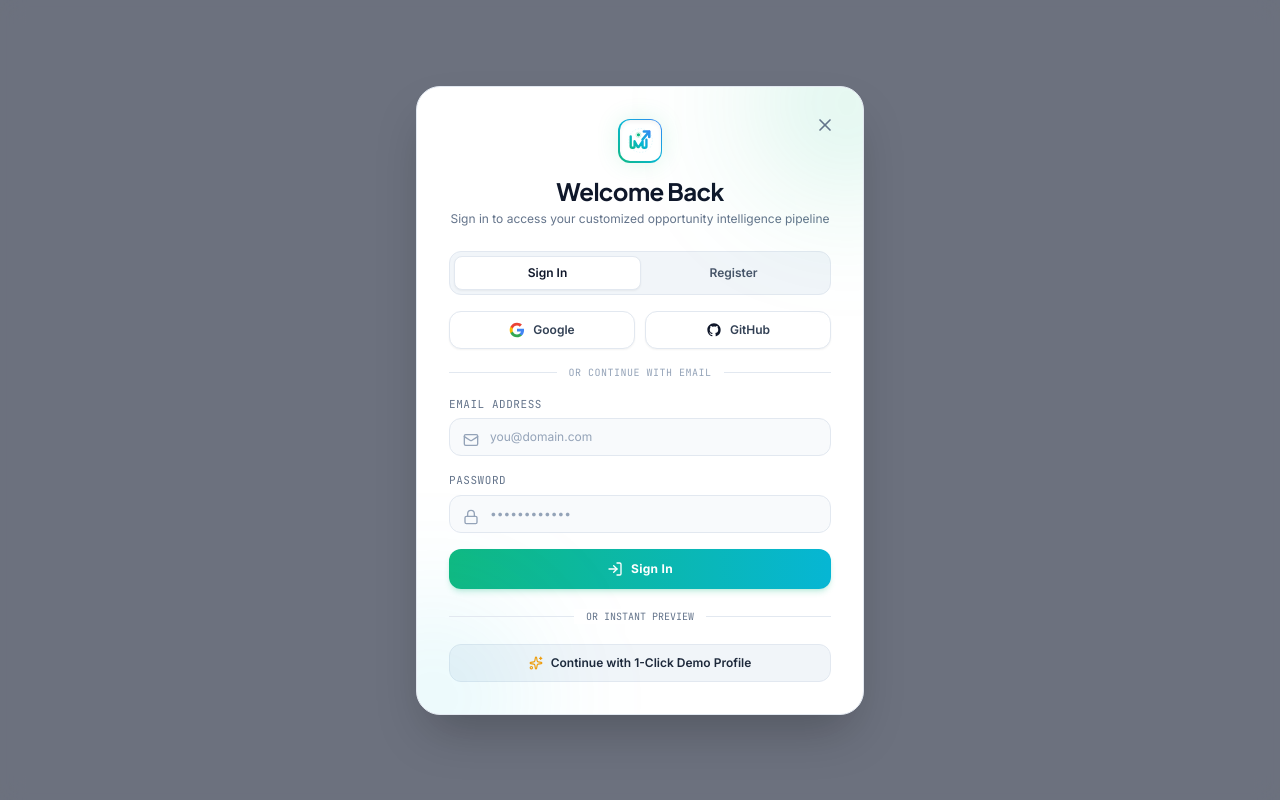
Test: AuthModal Component & Authentication Flows › handles switching between login and registration mode
Expected: the field with placeholder "e.g. Alex Mercer" is not shown
Note: Switch to Register
Click the button "Register": (734, 272) 641,256 -> 826,290
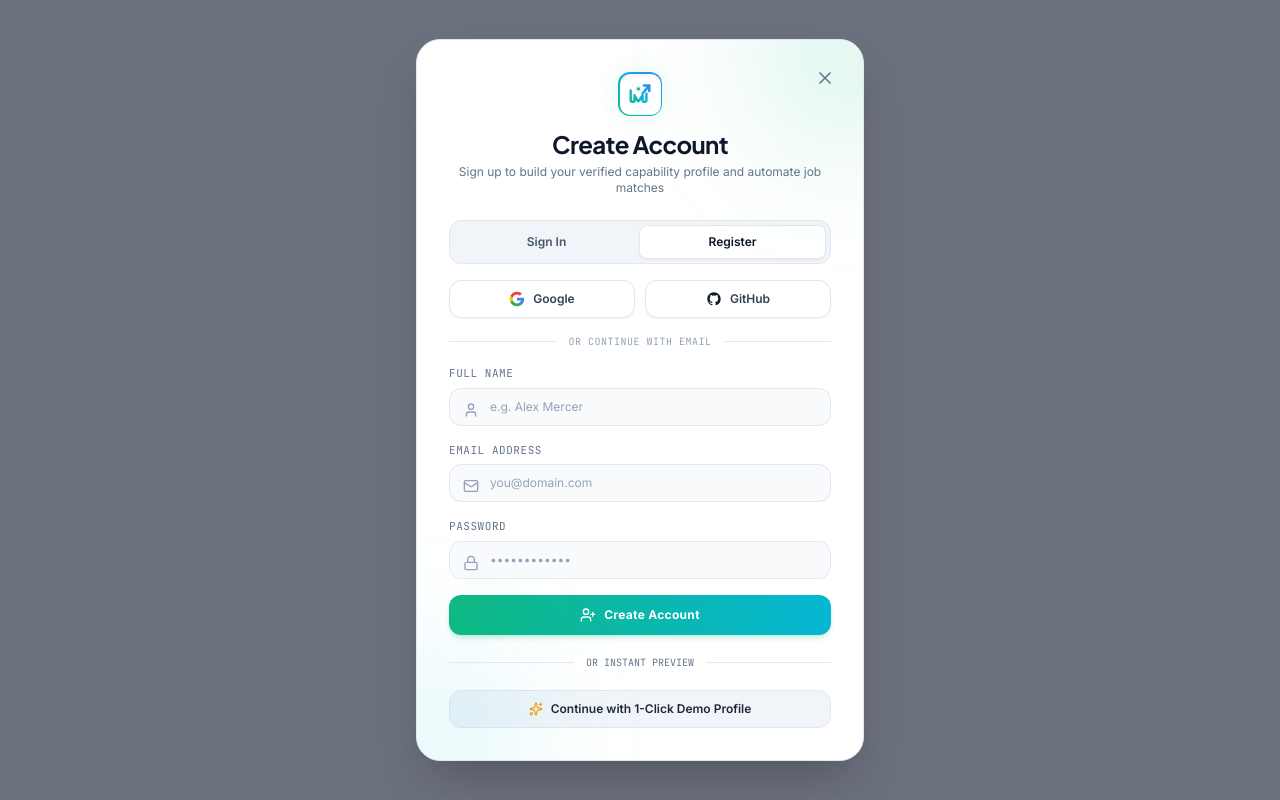
Now the heading "Create Account" is shown, box 552,129 -> 728,159
Now the field with placeholder "e.g. Alex Mercer" is shown, box 449,388 -> 831,426
Note: Switch back to Sign In
Click the button "Sign In": (546, 242) 454,225 -> 639,259
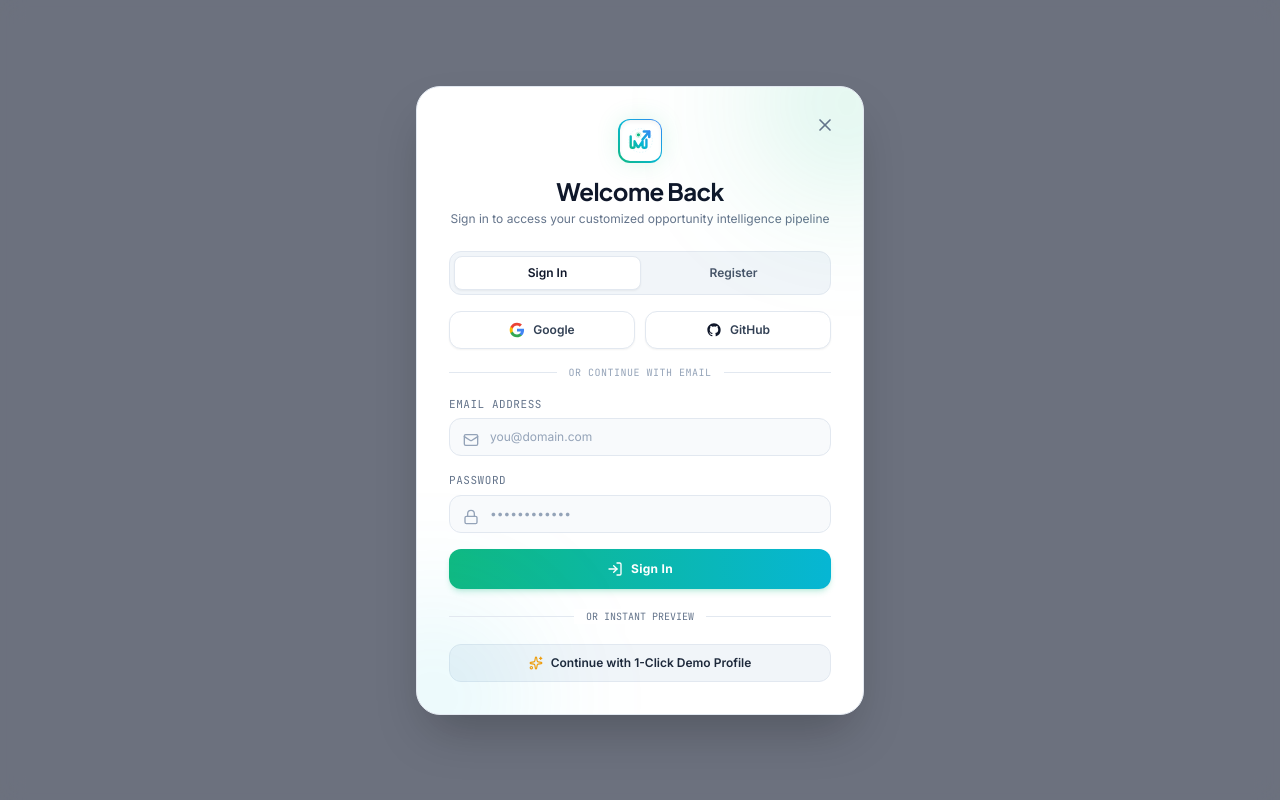
Now the heading "Welcome Back" is shown, box 556,176 -> 724,206
